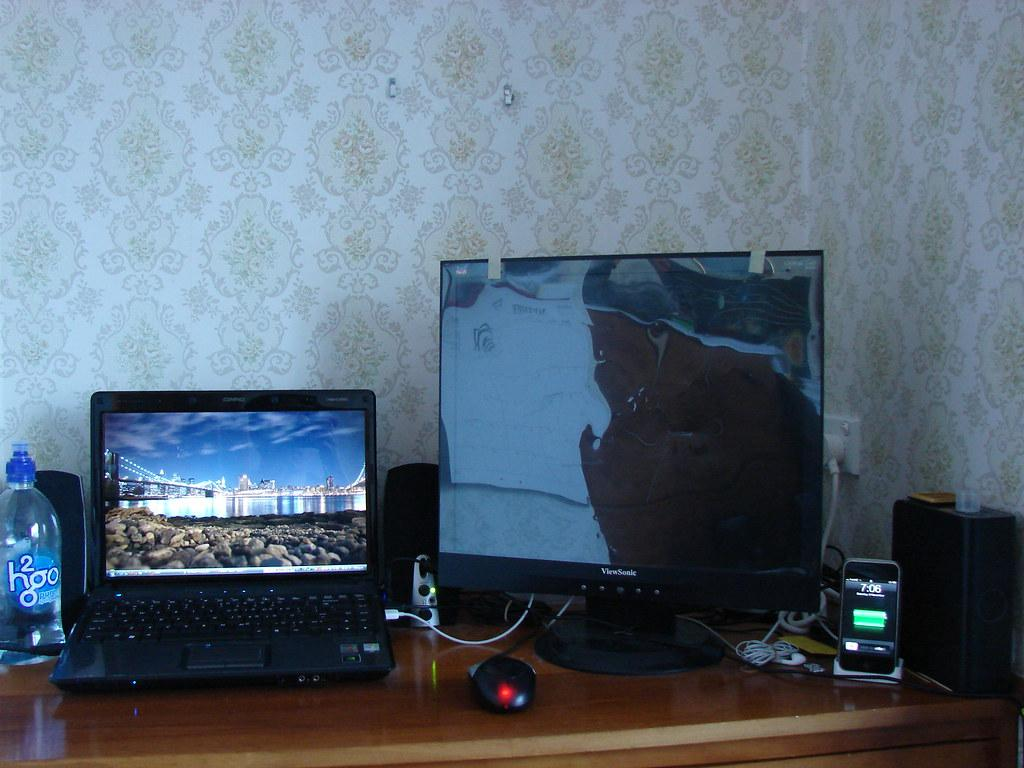computer: (437, 249, 827, 676), (49, 388, 396, 693), (892, 495, 1018, 697)
